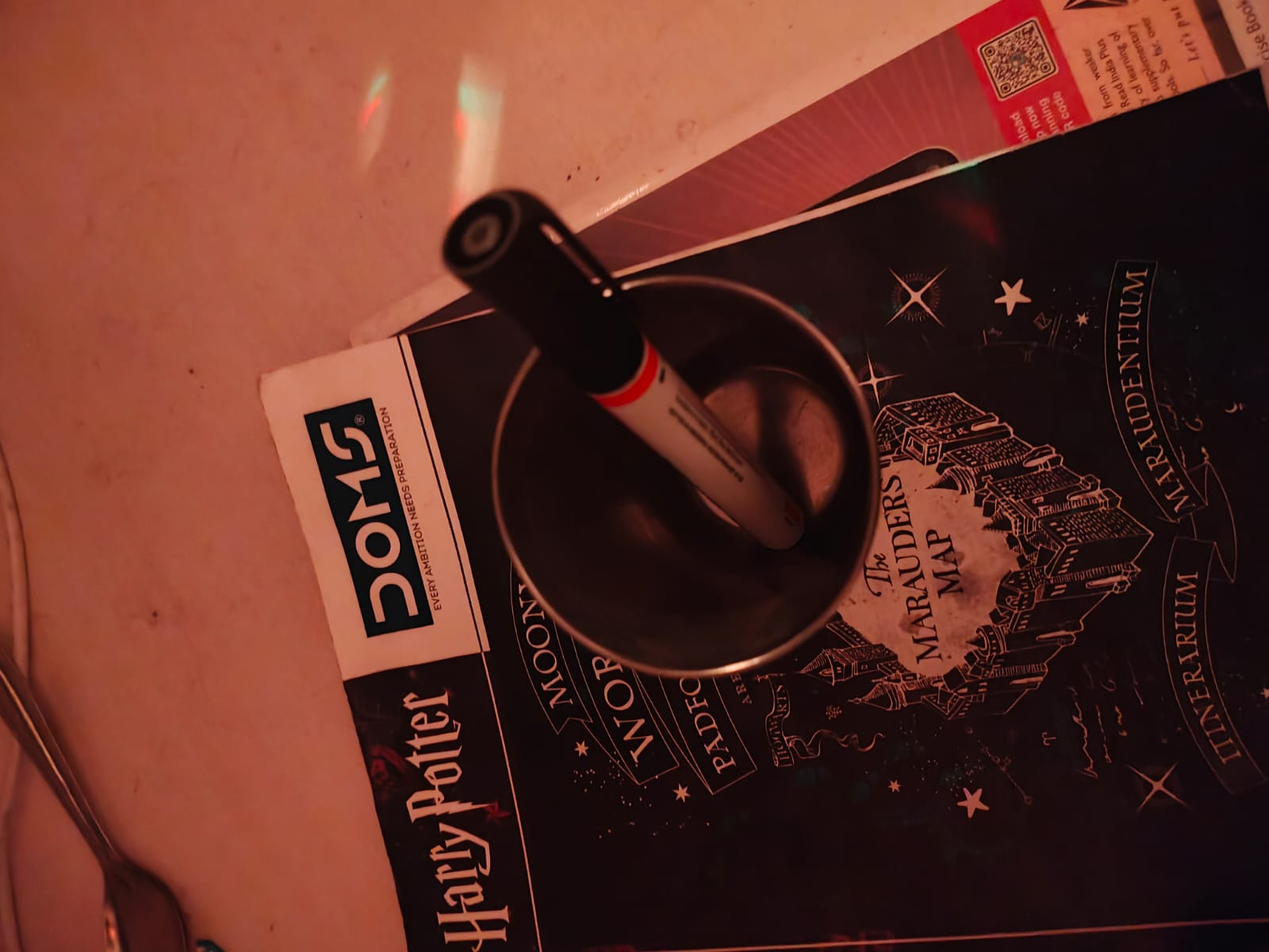case: (427, 181, 841, 558)
